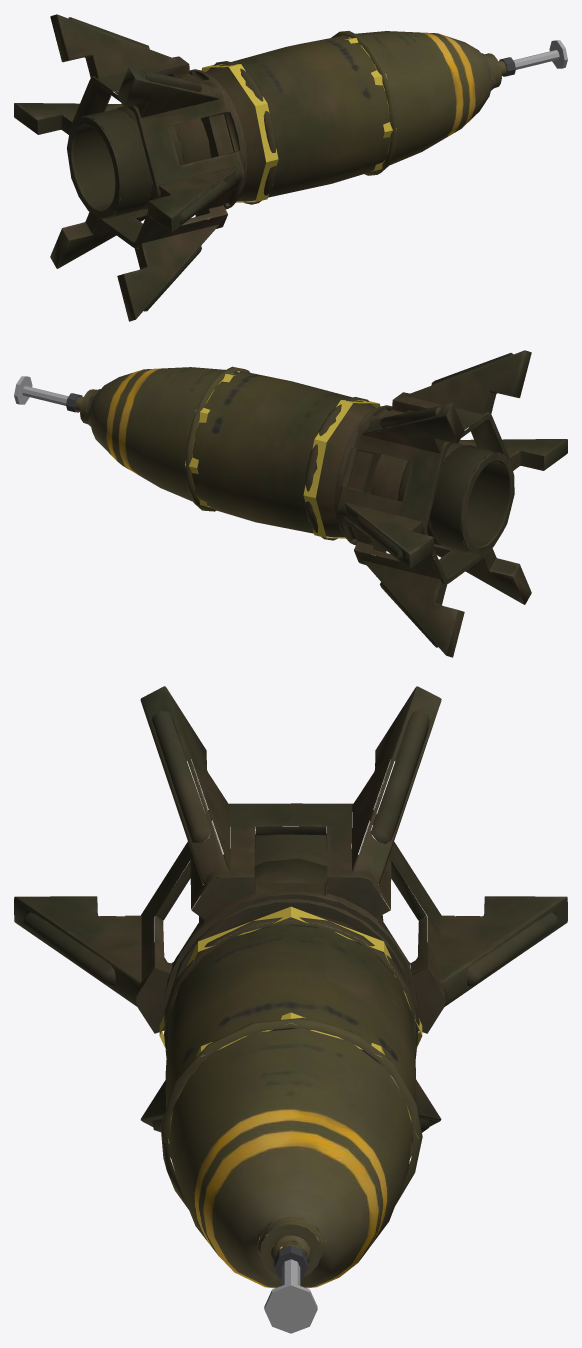
Rendered from hebomb_2.glb.
3 views of the same model, one above another, from view 1: azimuth 30°, elevation 25°; view 2: azimuth 150°, elevation 25°; view 3: azimuth 270°, elevation 25° (orthographic). The views are drawn at different scales.
Parts seen in each view (by area): view 1: hebomb_2; view 2: hebomb_2; view 3: hebomb_2.
Part boxes in pixels (left/top/right/bottom): hebomb_2: left=14, top=14, right=567, bottom=321; hebomb_2: left=14, top=350, right=567, bottom=657; hebomb_2: left=14, top=686, right=567, bottom=1333.
Size of the model in its own units: 1.13 by 0.59 by 0.6629.
4 materials, 1 textured.
